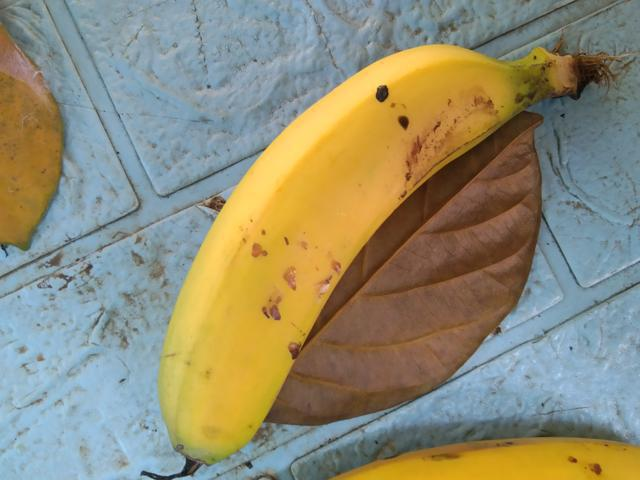ripe: (126, 50, 497, 479)
